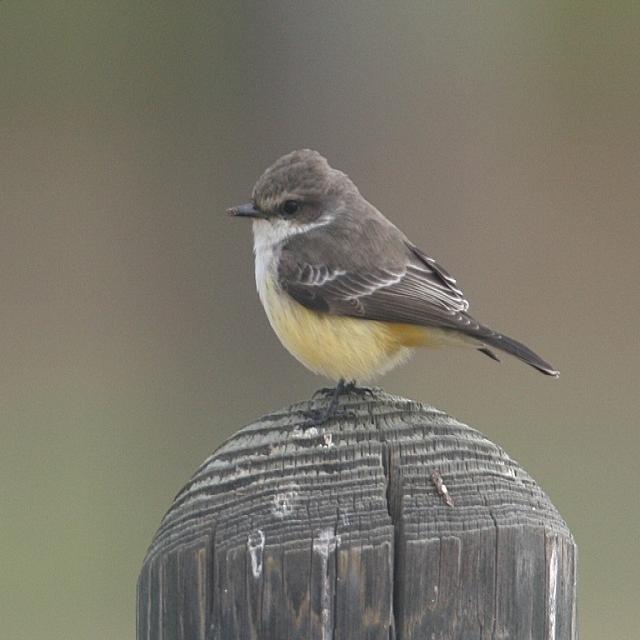bird: (222, 148, 568, 430)
